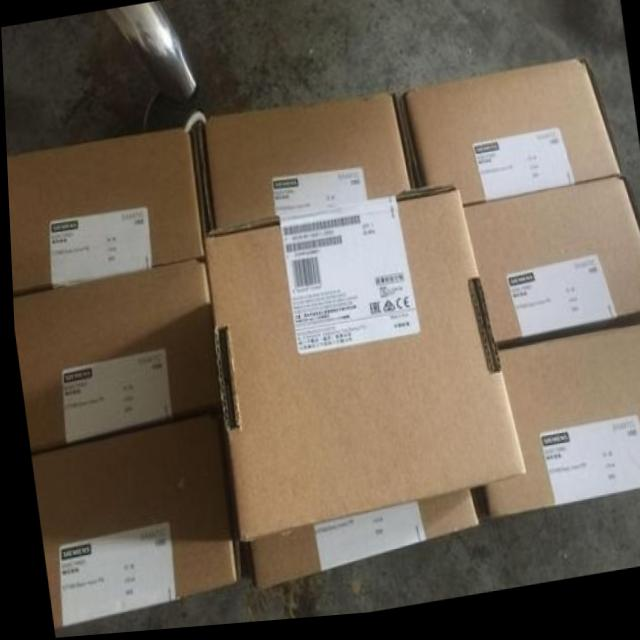box: (201, 190, 522, 546), (26, 411, 237, 629), (10, 261, 218, 452), (5, 129, 205, 294), (398, 64, 620, 212), (480, 331, 640, 528), (462, 186, 640, 353), (193, 99, 414, 233), (243, 497, 475, 595)
